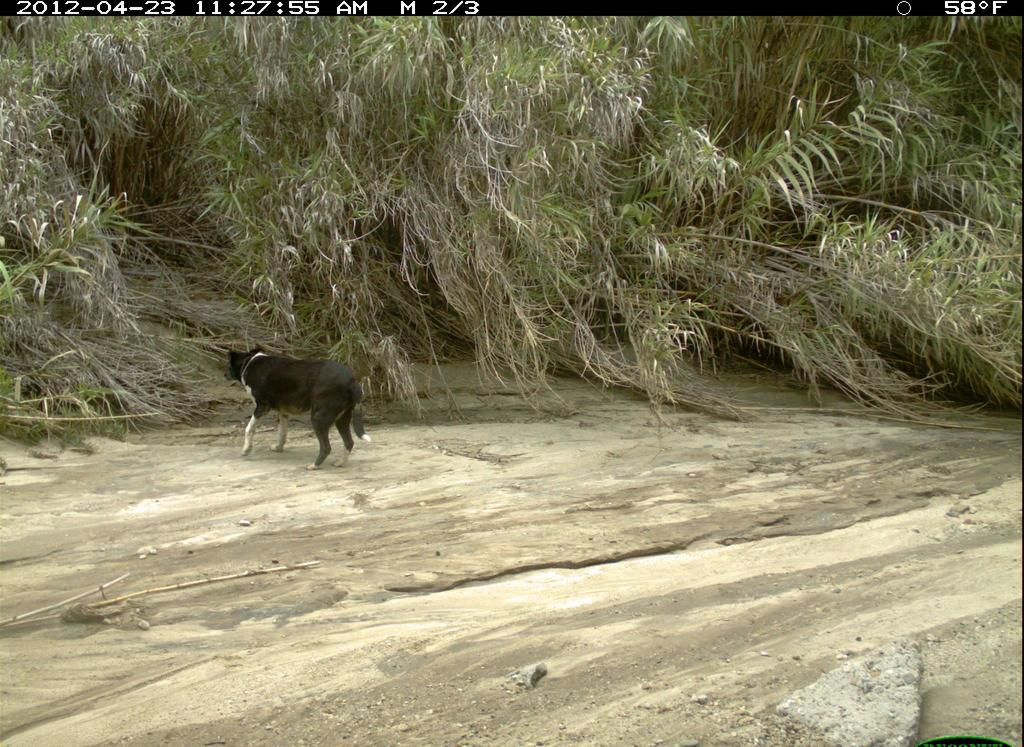dog: (218, 329, 387, 481)
